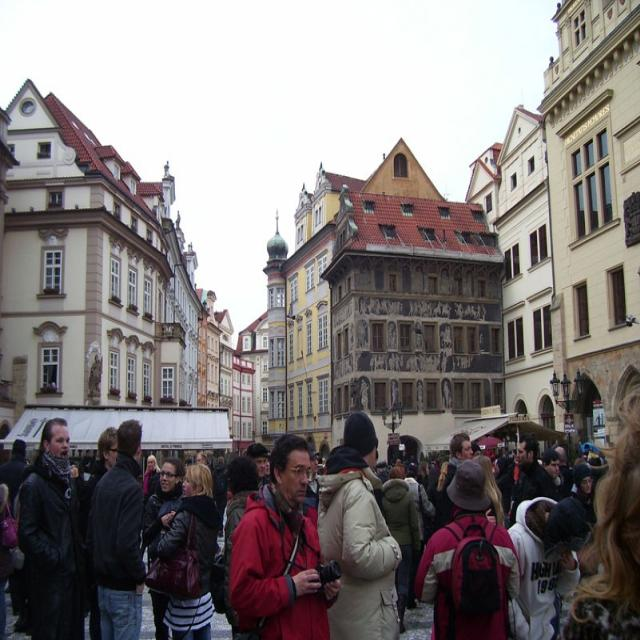body: (544, 354, 640, 639), (227, 432, 342, 640), (310, 408, 404, 639), (413, 458, 522, 639), (15, 415, 94, 639), (354, 293, 490, 412), (81, 417, 151, 639), (147, 461, 221, 639), (502, 494, 590, 640), (209, 456, 267, 640), (139, 455, 187, 640), (79, 426, 118, 640), (378, 465, 422, 635), (437, 431, 498, 530), (0, 434, 25, 640), (403, 466, 438, 611), (506, 432, 557, 526), (474, 434, 518, 482), (211, 455, 230, 540), (141, 454, 163, 504), (250, 447, 273, 491), (68, 449, 96, 484), (309, 450, 331, 491), (416, 454, 438, 486), (374, 460, 395, 483)
